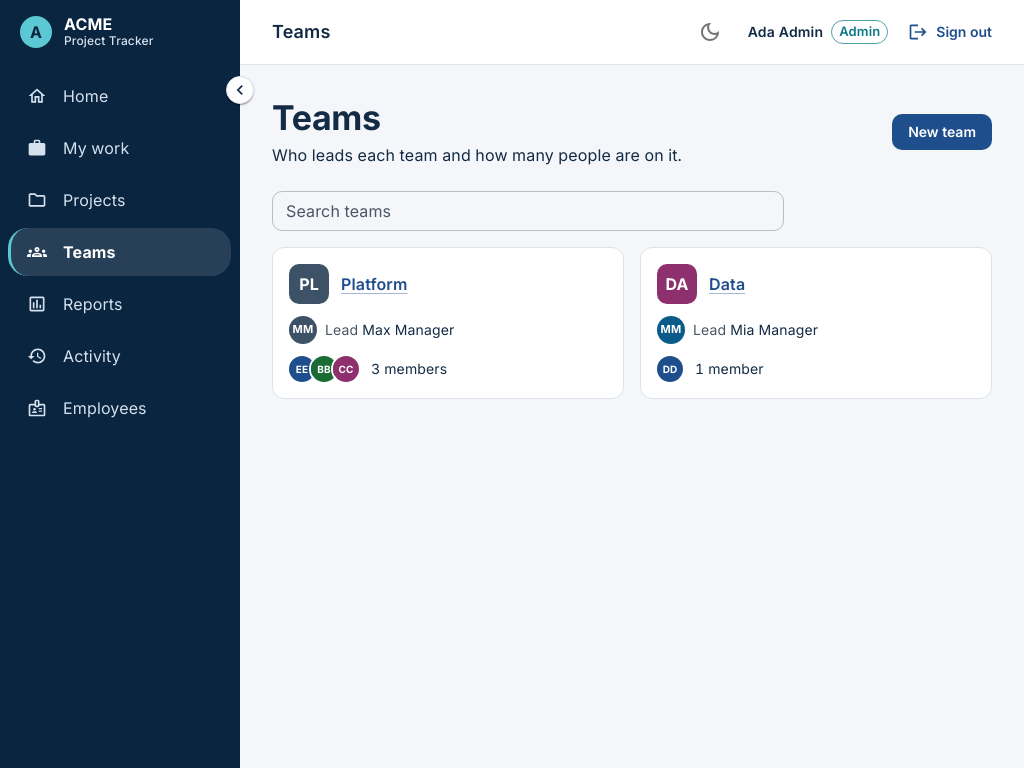
Test: Teams list › a duplicate name keeps the dialog open with a fixed message
The image size is (1024, 768).
Click the button "New team" at (942, 132), box [892,114,992,150]
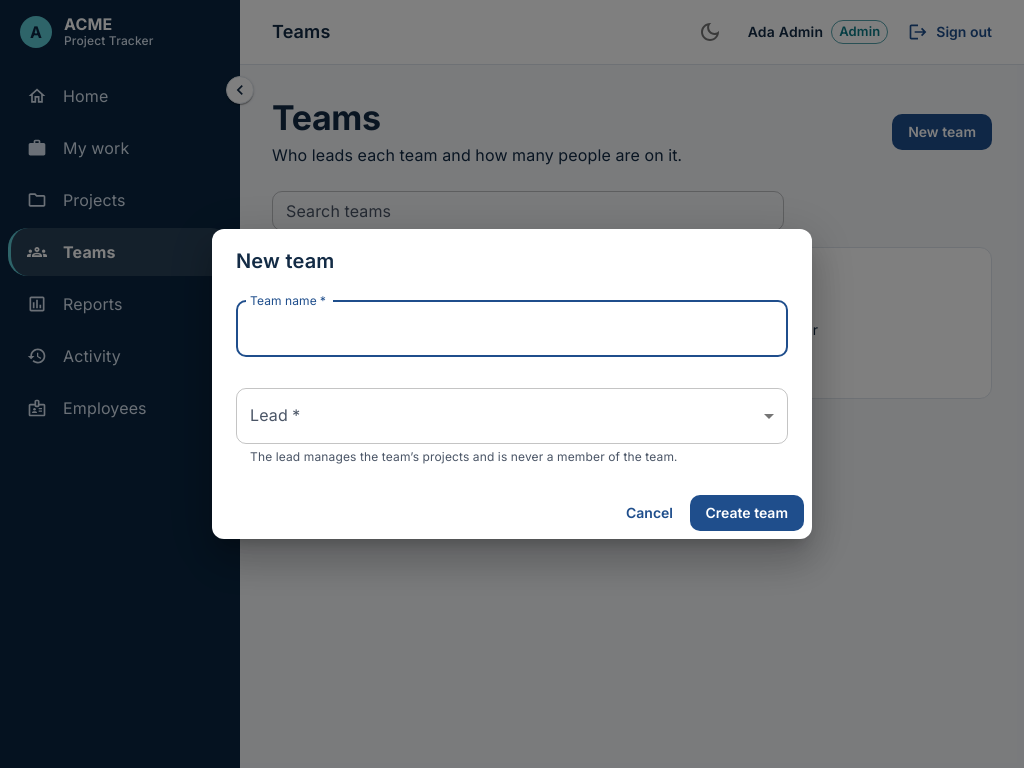
Type "platform" into the field labelled "Team name *" at (512, 329), box [236,301,788,357]
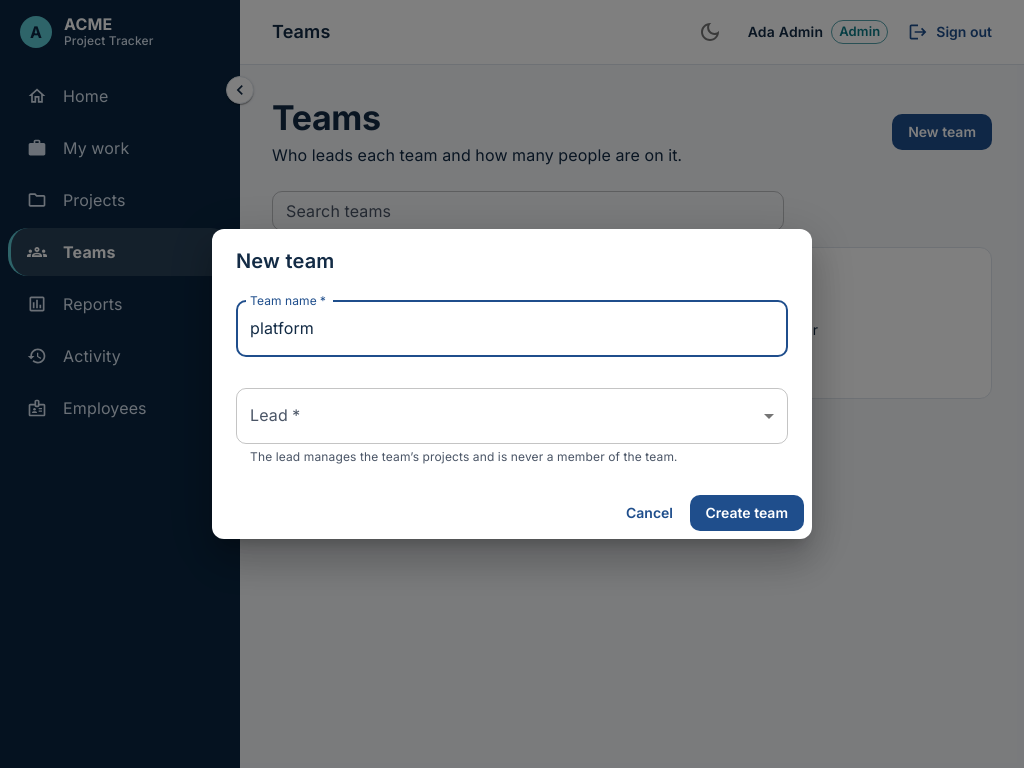
Click the dropdown named "lead" at (512, 416), box [236,388,788,444]
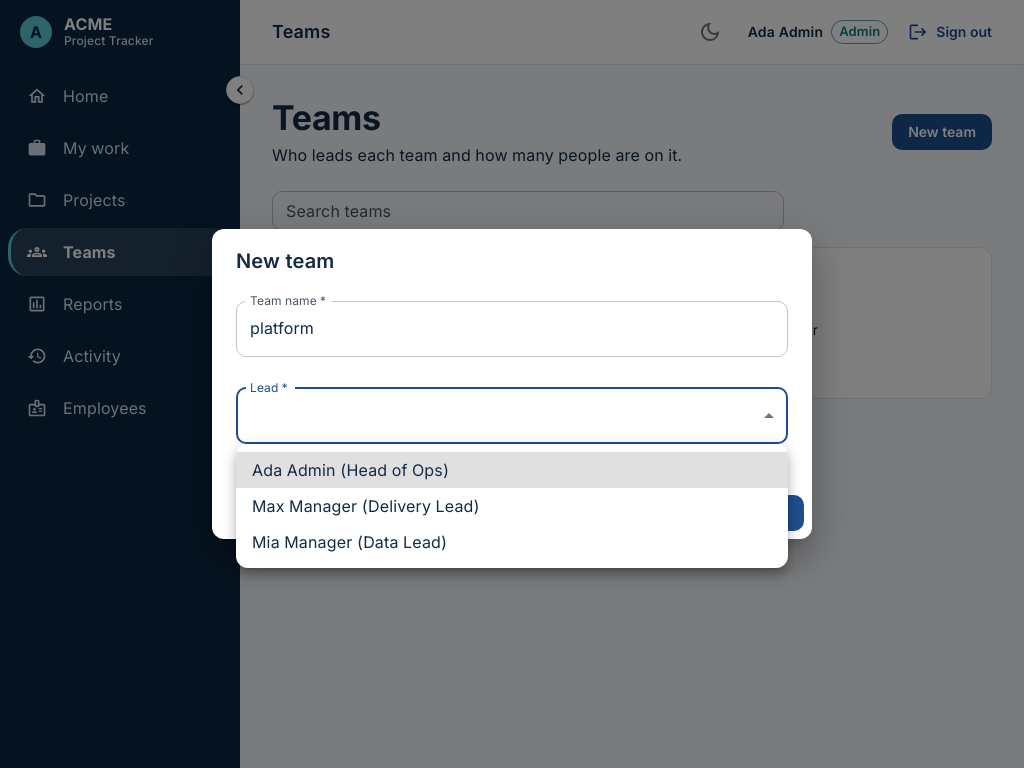
Click the option "Mia Manager (Data Lead)" at (350, 542), box [252,532,447,552]
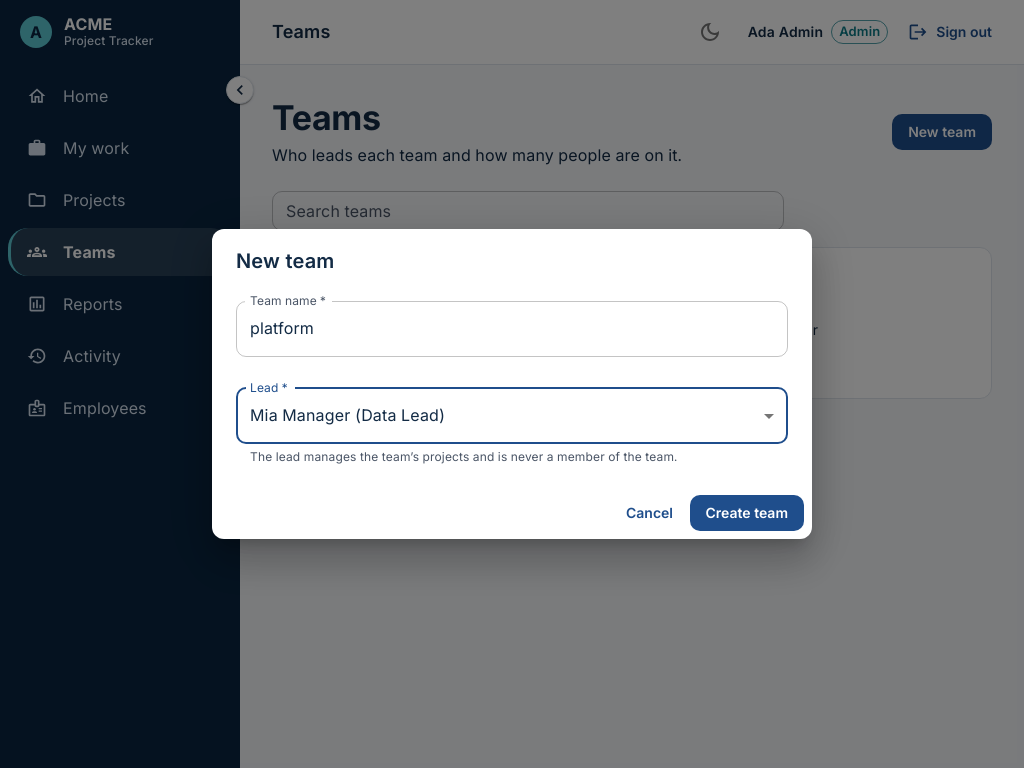
Click the button "Create team" at (747, 513), box [690,495,804,531]
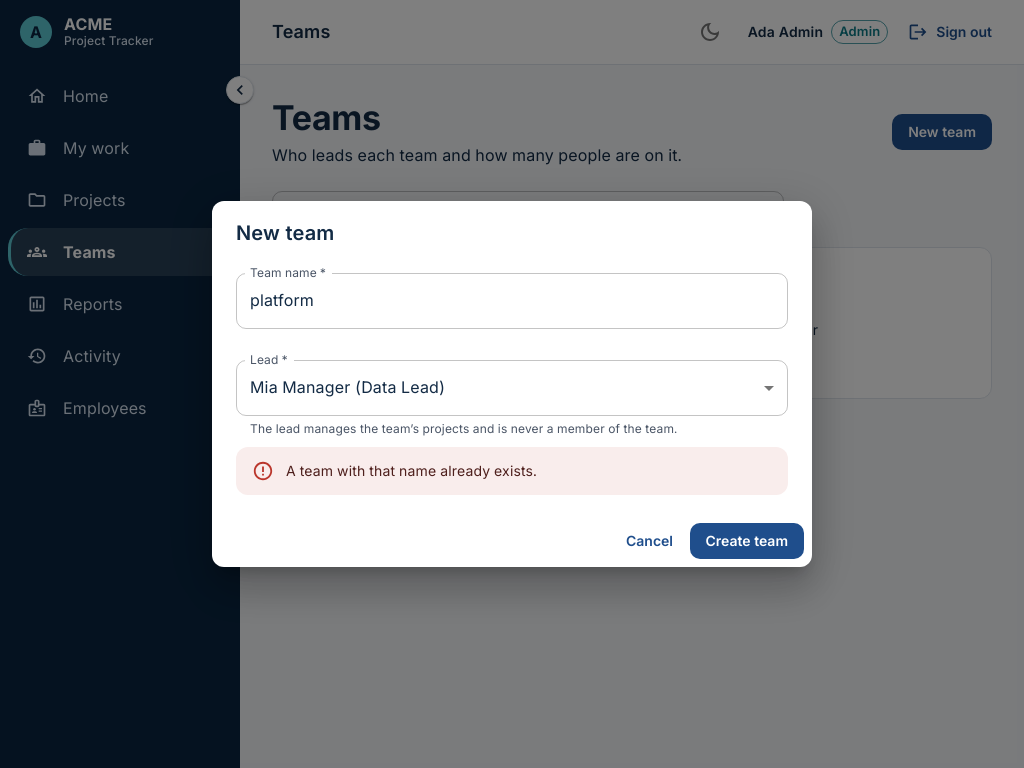
Check: the text "A team with that name already exists." is shown, box [286,462,537,479]
